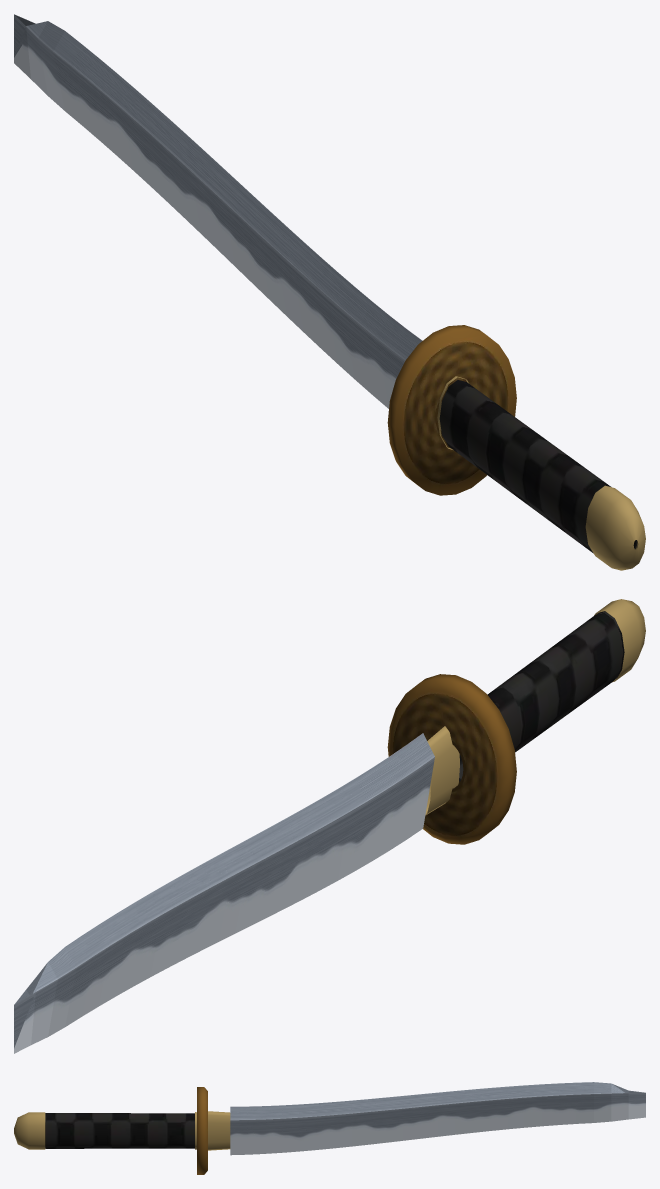
The model's file is wakizashi.glb.
3 views of the same model, one above another, from view 1: azimuth 30°, elevation 25°; view 2: azimuth 150°, elevation 25°; view 3: azimuth 270°, elevation 25° (orthographic). The views are drawn at different scales.
Parts seen in each view (by area): view 1: main; view 2: main; view 3: main.
Boxes of the visible parts, x1=… form: main: x1=14, y1=14, x2=645, y2=570; main: x1=14, y1=599, x2=645, y2=1053; main: x1=14, y1=1082, x2=645, y2=1174.
Size of the model in its own units: 0.0774 by 0.1078 by 0.684.
4 materials, 3 textured.
